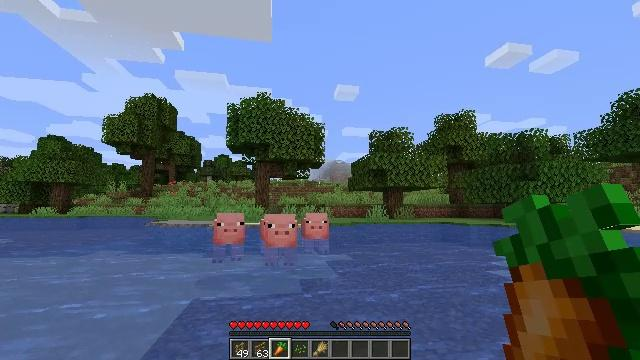pig: (260, 214, 297, 266), (211, 214, 246, 263), (301, 213, 329, 255)
